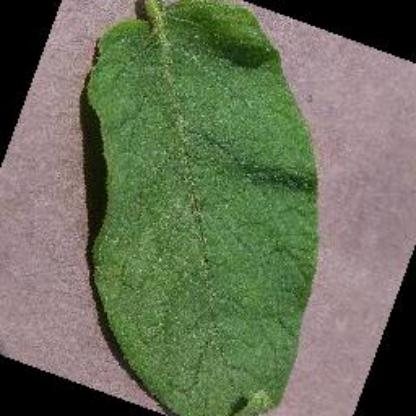Healthy-plant: (69, 0, 326, 416)
